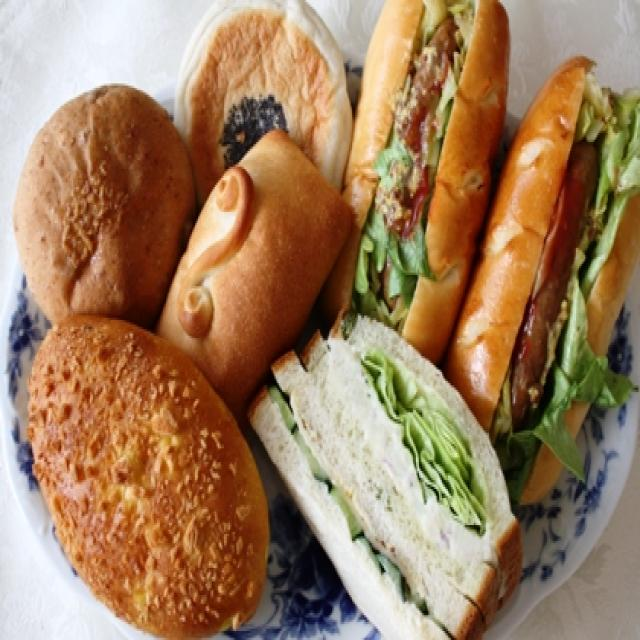三明治: (455, 22, 640, 513)
